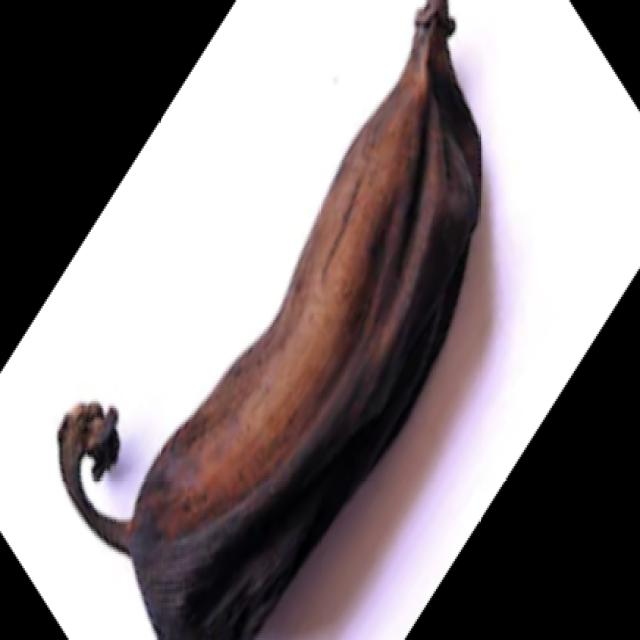Rotten: (56, 0, 482, 640)
